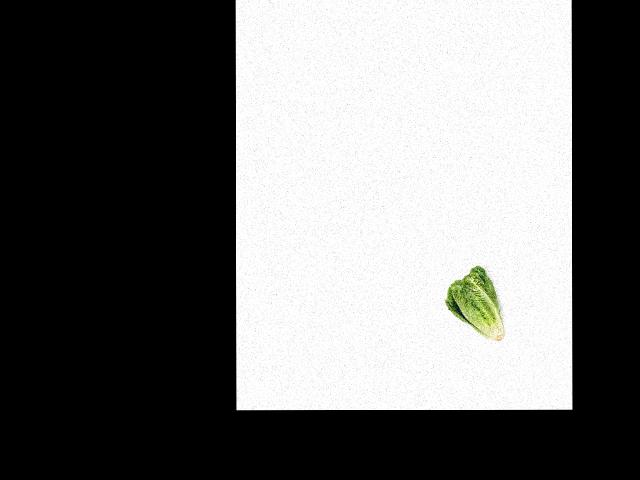lettuce: (446, 266, 506, 346)
